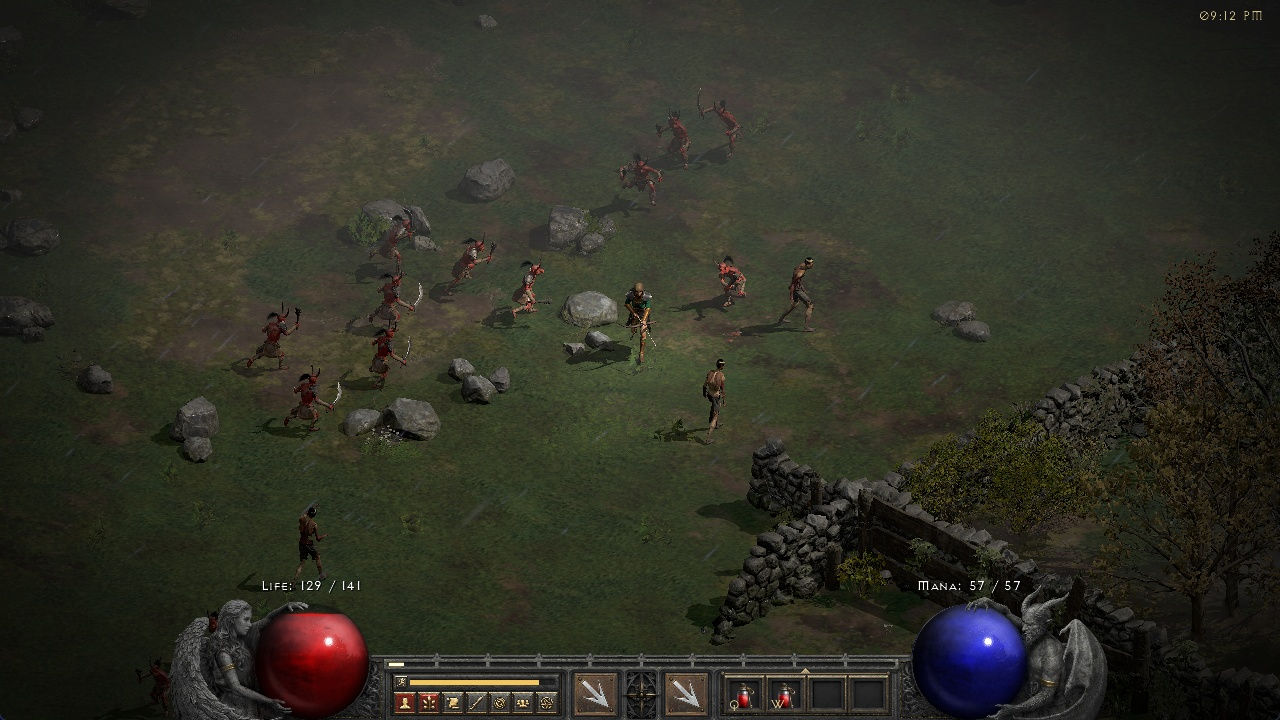fallen: (286, 364, 342, 436), (441, 230, 499, 299), (251, 302, 308, 364), (700, 92, 751, 156), (369, 270, 415, 331), (369, 334, 419, 390), (655, 109, 702, 167), (511, 258, 553, 322), (614, 151, 664, 202), (378, 205, 415, 266), (709, 252, 749, 304)
